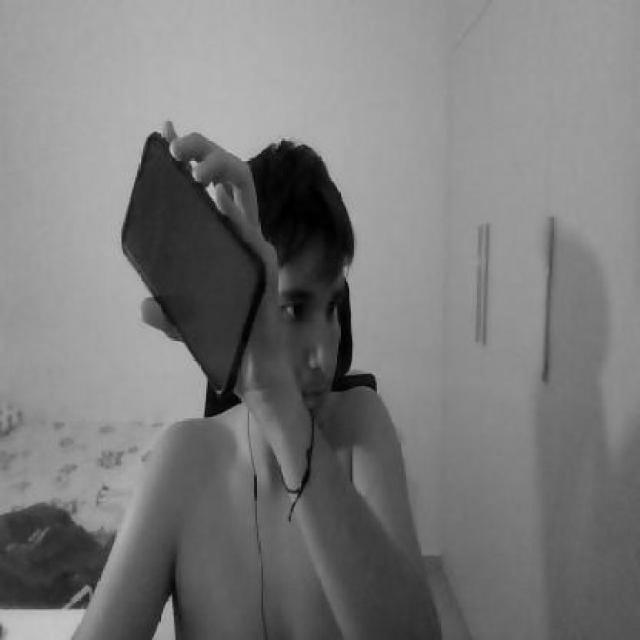fake: (122, 132, 266, 402)
